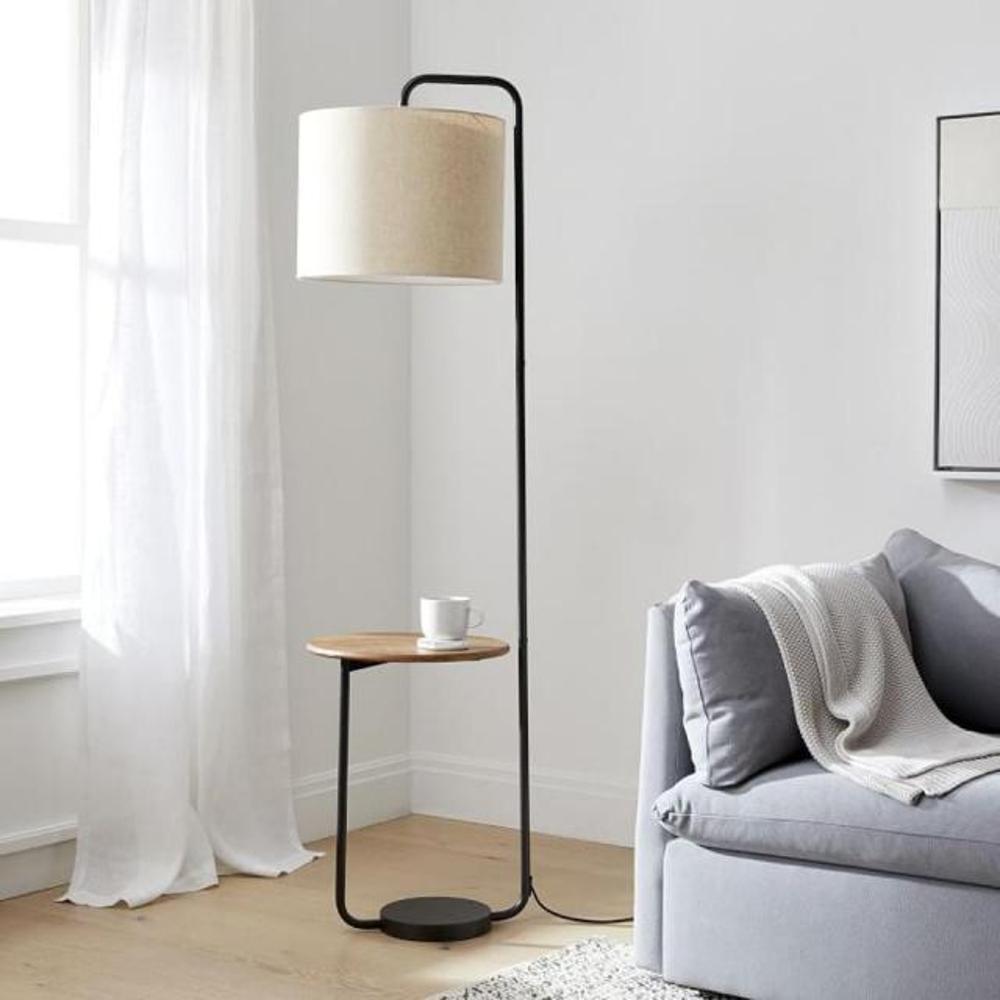shelf: (270, 40, 589, 946)
